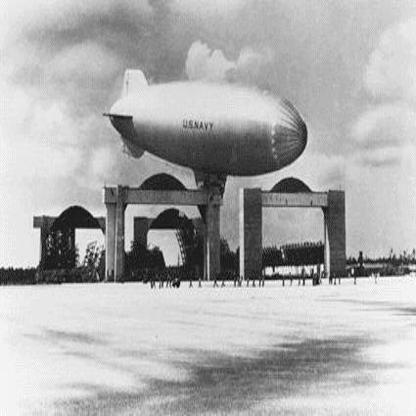Airship: (105, 66, 310, 178)
